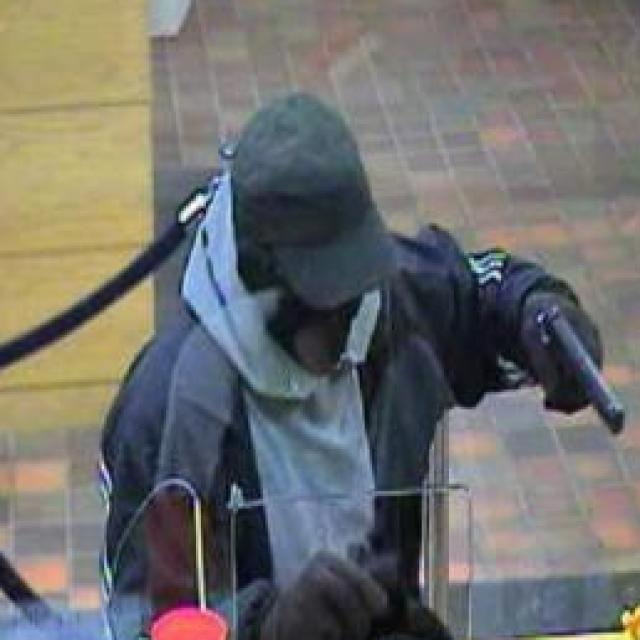pistol: (537, 303, 625, 439)
